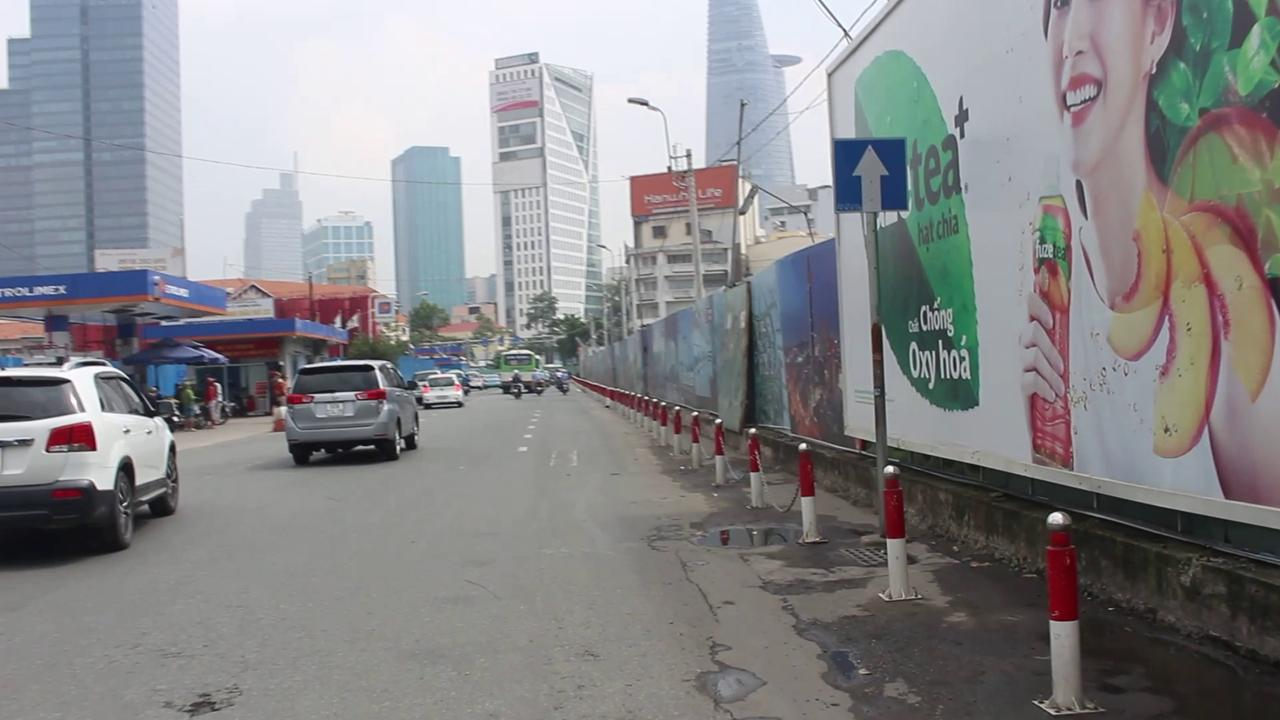P.124c: (834, 140, 910, 215)
